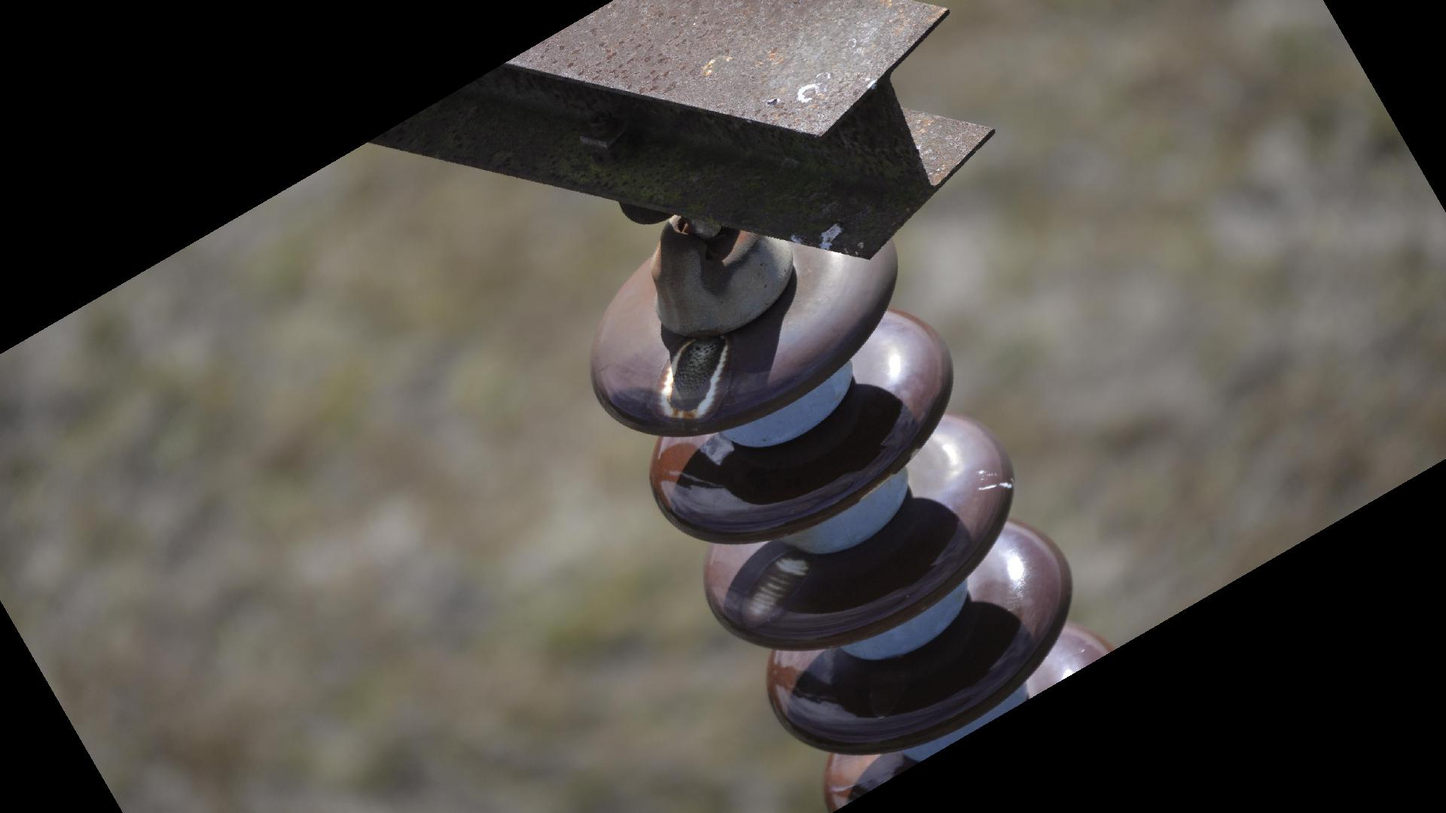insulator: (584, 209, 1124, 813)
insulator_flashover: (656, 328, 732, 427), (737, 548, 815, 632)
